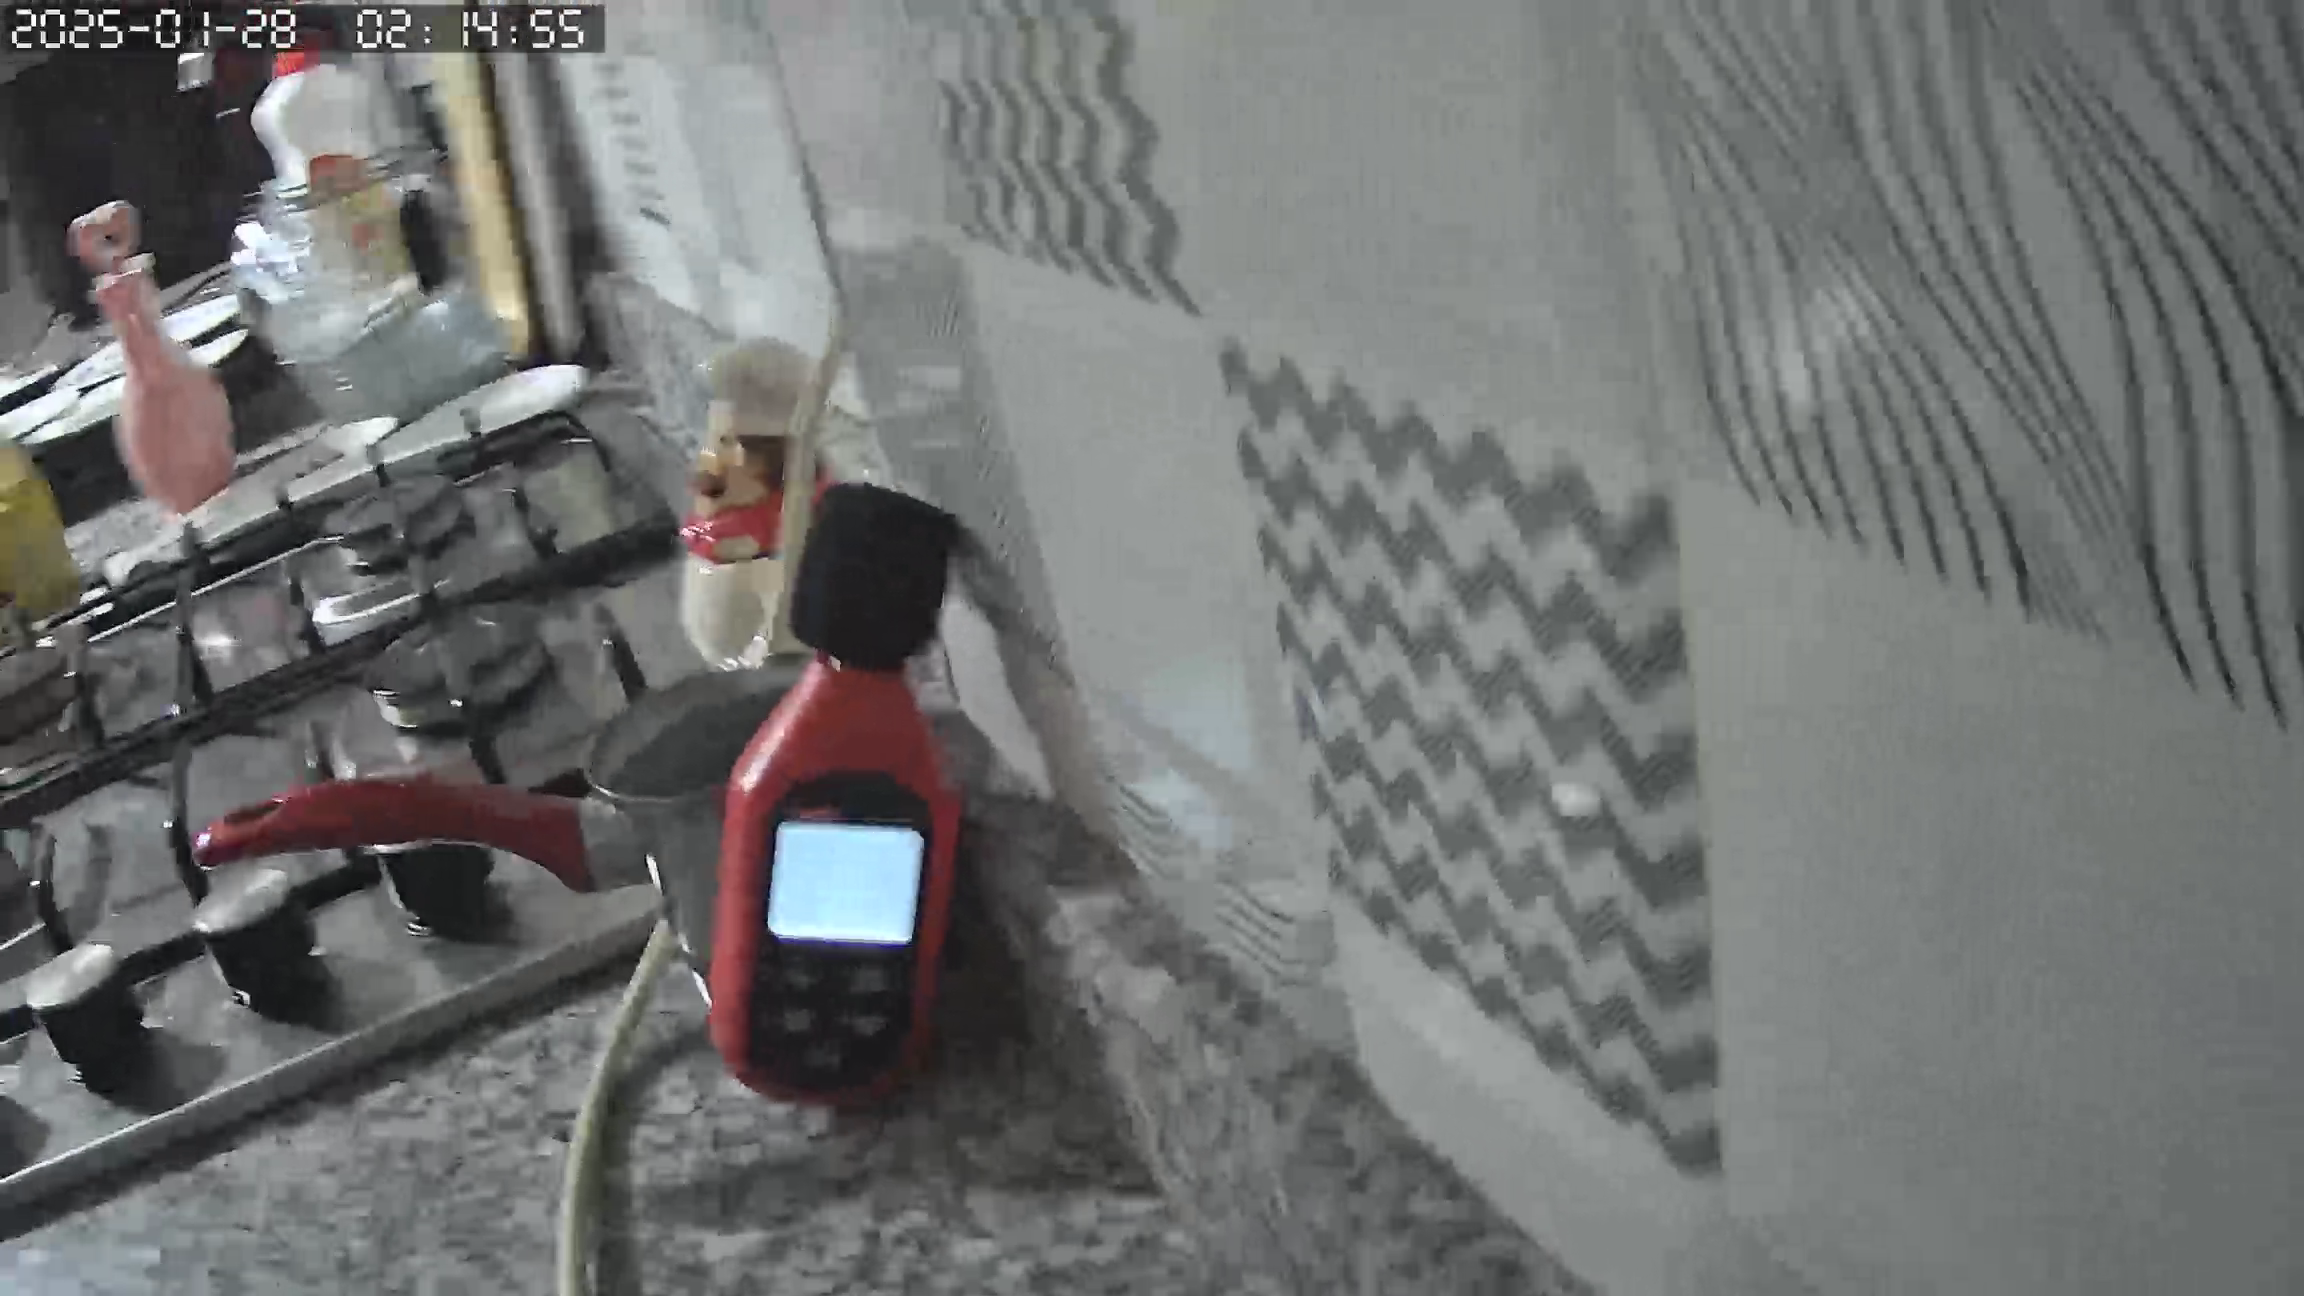screen: (763, 821, 929, 946)
